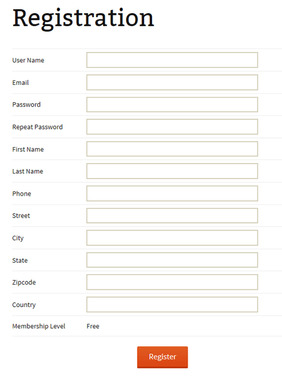_form_: (1, 1, 282, 380)
button: (134, 345, 191, 369)
field: (85, 272, 259, 291), (84, 229, 259, 247), (85, 251, 260, 269), (86, 51, 260, 69), (85, 118, 259, 136), (85, 162, 259, 180), (85, 295, 259, 313), (85, 140, 258, 158), (85, 184, 258, 202), (85, 207, 258, 225), (85, 74, 259, 91), (85, 96, 258, 113)
field_with_label: (11, 50, 261, 70), (10, 72, 260, 92), (10, 94, 260, 114), (10, 117, 260, 137), (8, 139, 258, 159), (10, 161, 260, 181), (9, 183, 259, 203), (9, 205, 259, 225), (10, 227, 260, 247), (9, 249, 259, 269), (9, 271, 259, 291), (9, 293, 259, 313)
